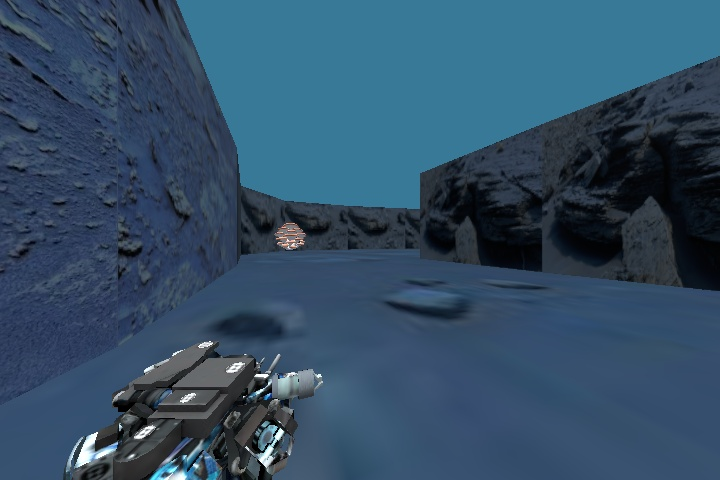mushrooms: (269, 213, 315, 255)
